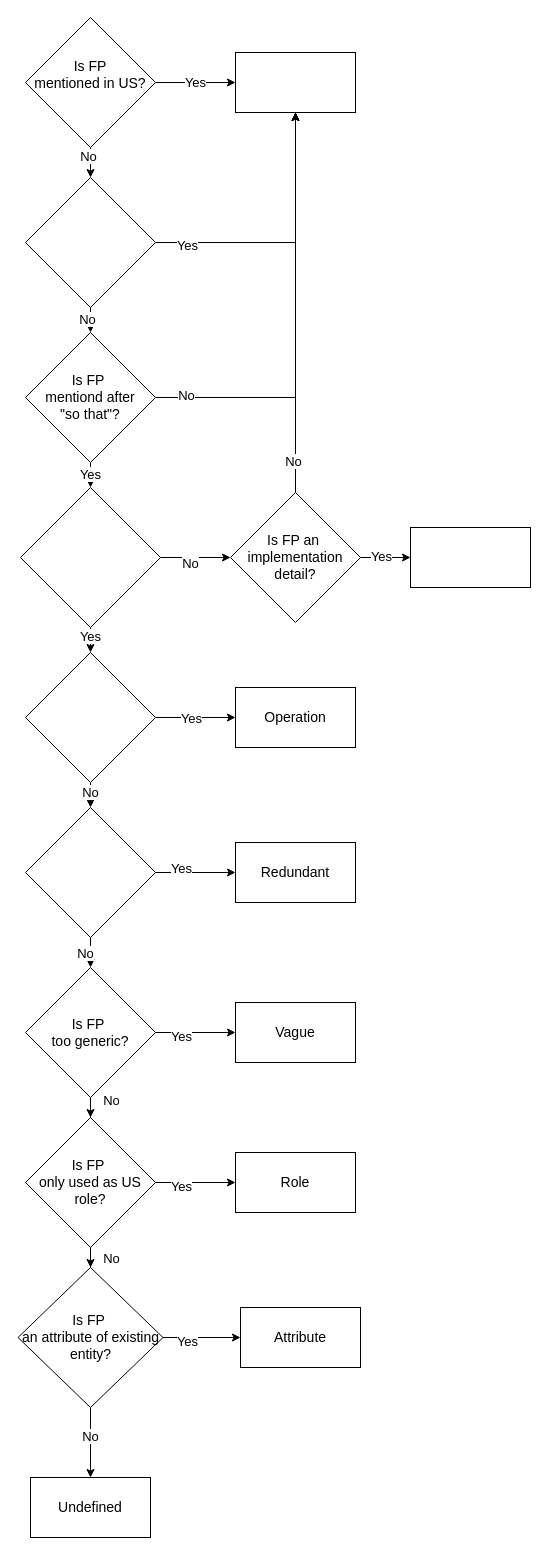
The diagram is 548 pixels wide and 1555 high, and some of its shapes have lost their labels. Each missing label, with the box of its shape:
Implementation: (410, 526, 530, 588)
Irrelevant: (234, 52, 356, 112)
Is FP a noun?: (24, 176, 156, 308)
Is FP an actor entity, operation, or an attribute?: (20, 486, 160, 628)
Is FP an operation?: (24, 652, 156, 782)
Is FP derived or redundant?: (24, 806, 156, 938)
